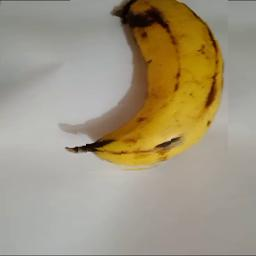Banana Semifresh: (71, 1, 229, 173)
